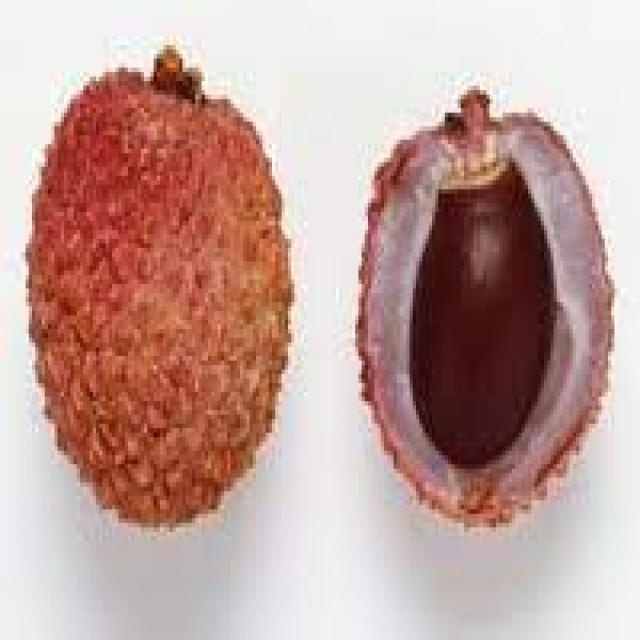lychee: (360, 92, 622, 526)
